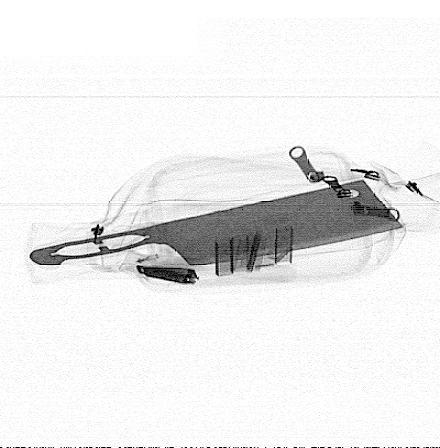Knife: (28, 178, 406, 267)
